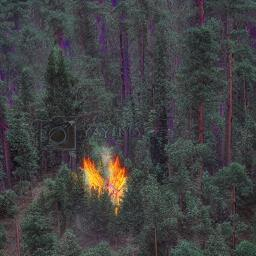Small fire: (75, 133, 137, 214)
